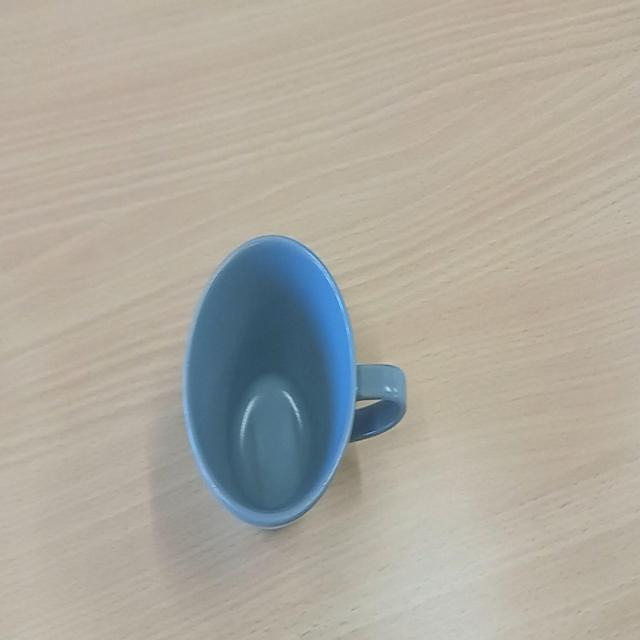cup: (181, 226, 408, 540)
